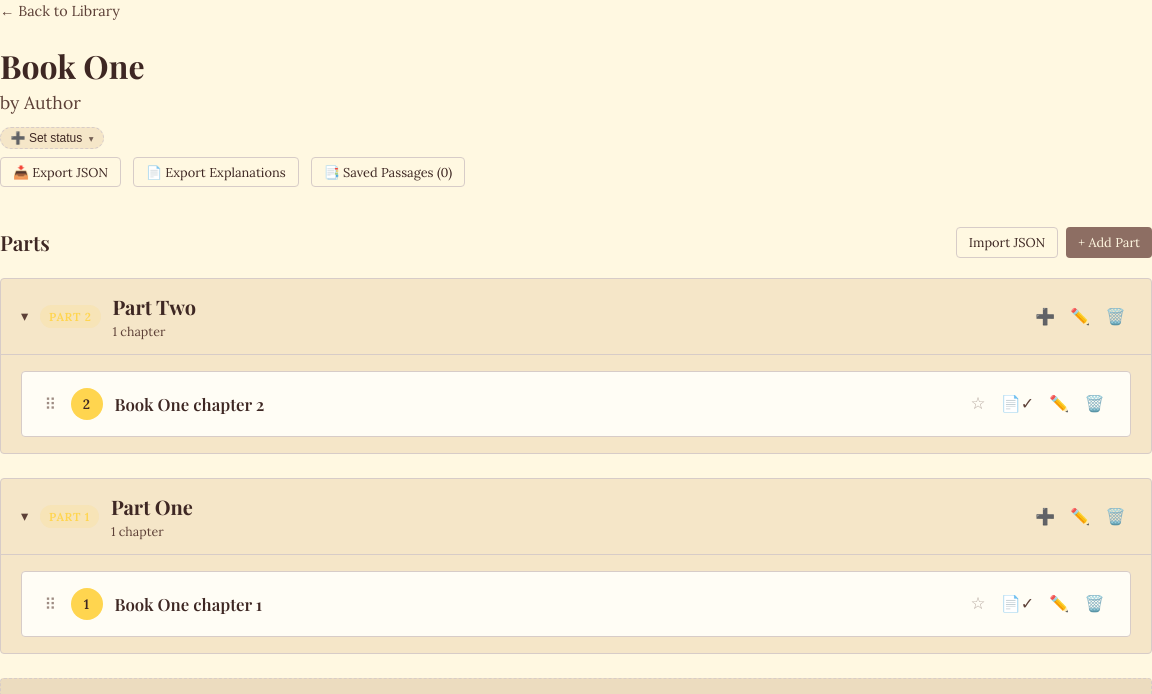
parts › lists explanations for export in reading order, numbered across parts
Step 1. Click the button "📄 Export Explanations" → (216, 172), box top-left (133, 157), bottom-right (299, 187)
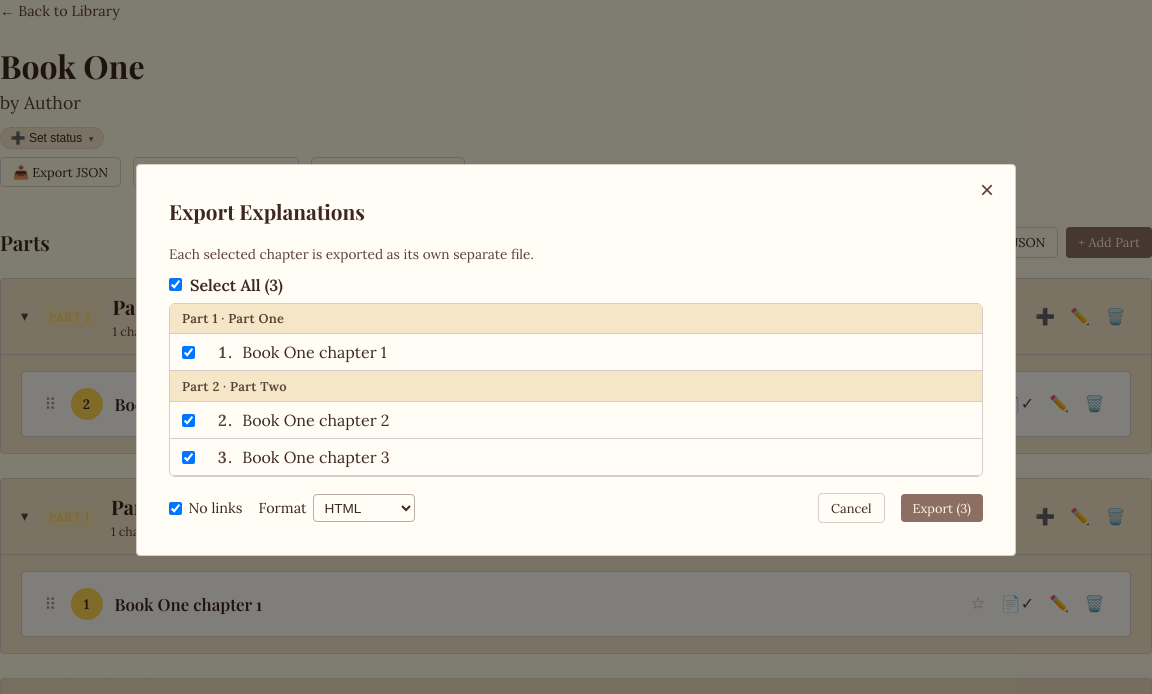
Expected: the heading "Export Explanations" is shown, top-left (169, 197), bottom-right (365, 225)
Expected: the list items read "Part 1 · Part One1.Book One chapter 1", "Part 2 · Part Two2.Book One chapter 2", "3.Book One chapter 3", in this order, top-left (170, 304), bottom-right (982, 371); top-left (170, 371), bottom-right (982, 439); top-left (170, 439), bottom-right (982, 476)
